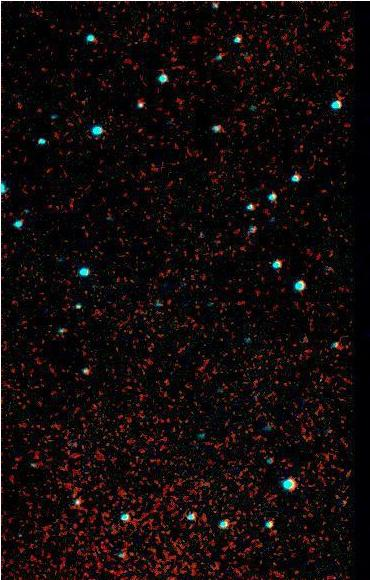star: (70, 355, 100, 385)
